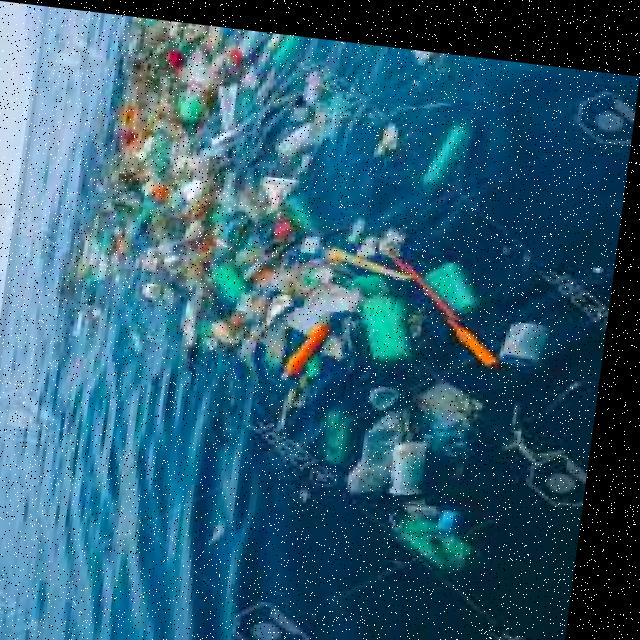plasticbottle: (349, 265, 449, 365), (271, 296, 374, 388), (400, 245, 512, 317), (383, 417, 445, 496)
